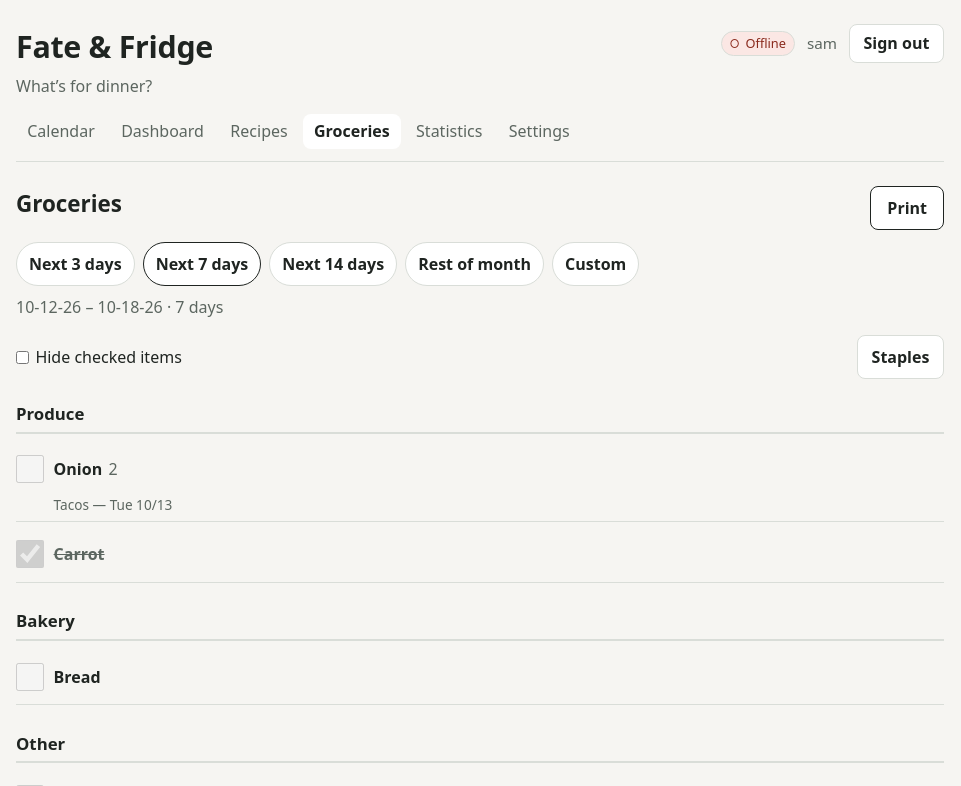
Test: groceries page › disables every write for a member without groceries.edit
Expected: the text "Onion" is shown, [54,457,102,481]
Expected: the checkbox named "Mark Onion as bought" is disabled, [16,455,44,483]
Click the button "Staples" at (900, 357), box [857,335,944,379]
(page scrolled)
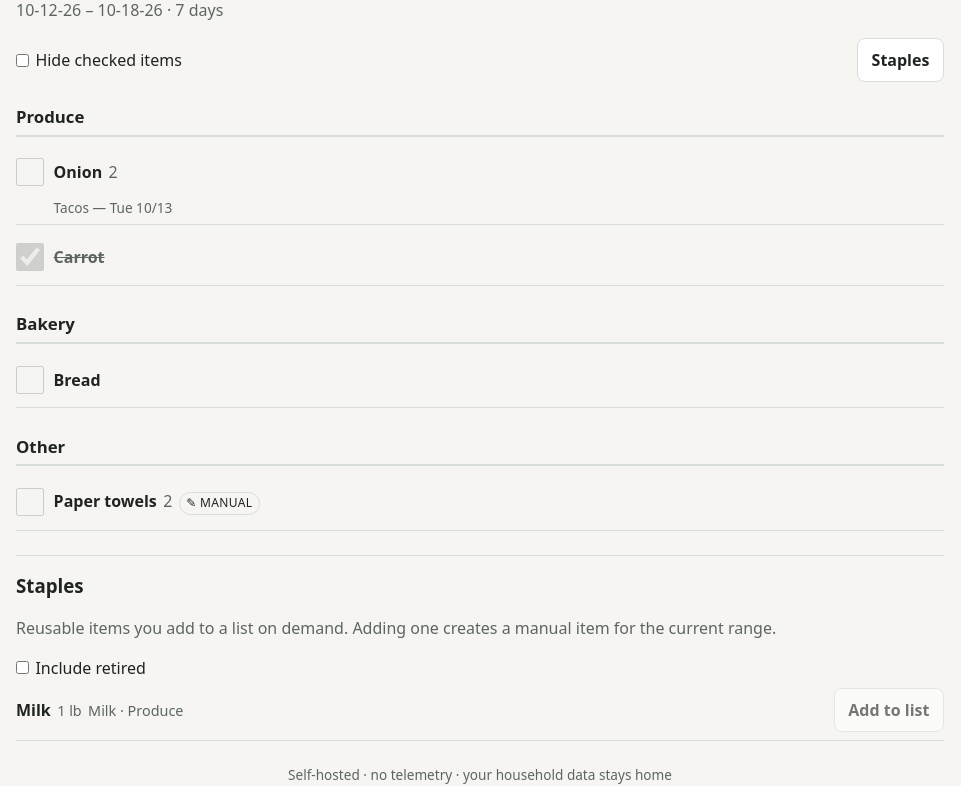
Result: the button "Add to list" is disabled at [834,688,944,732]
